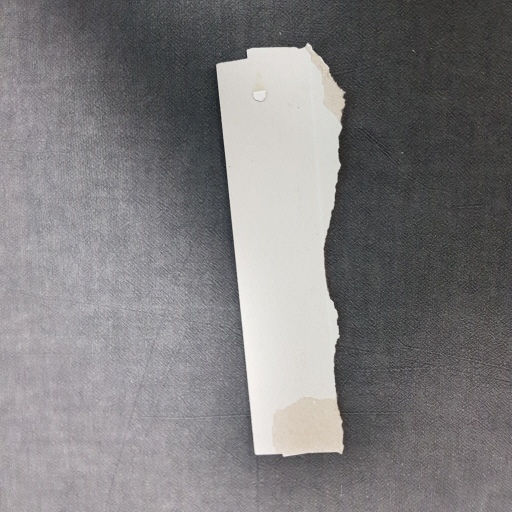Paper_2: (208, 31, 371, 477)
